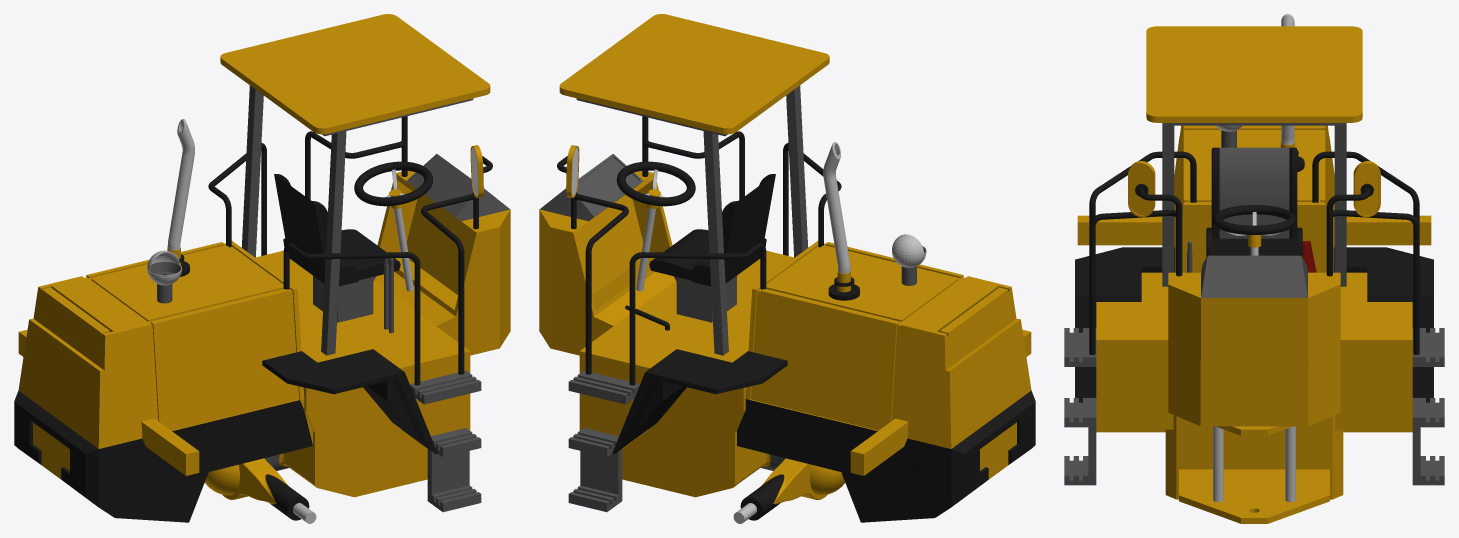
The picture shows the model from 3 angles, left to right: view 1: azimuth 30°, elevation 25°; view 2: azimuth 150°, elevation 25°; view 3: azimuth 270°, elevation 25°; orthographic projection. The views are drawn at different scales.
Visible parts, largest first — view 1: Body.001; view 2: Body.001; view 3: Body.001.
Boxes of the visible parts, x1=… form: Body.001: x1=14, y1=14, x2=510, y2=523; Body.001: x1=539, y1=14, x2=1035, y2=523; Body.001: x1=1064, y1=14, x2=1444, y2=523.
Size of the model in its own units: 9.95 by 7.12 by 8.62.
